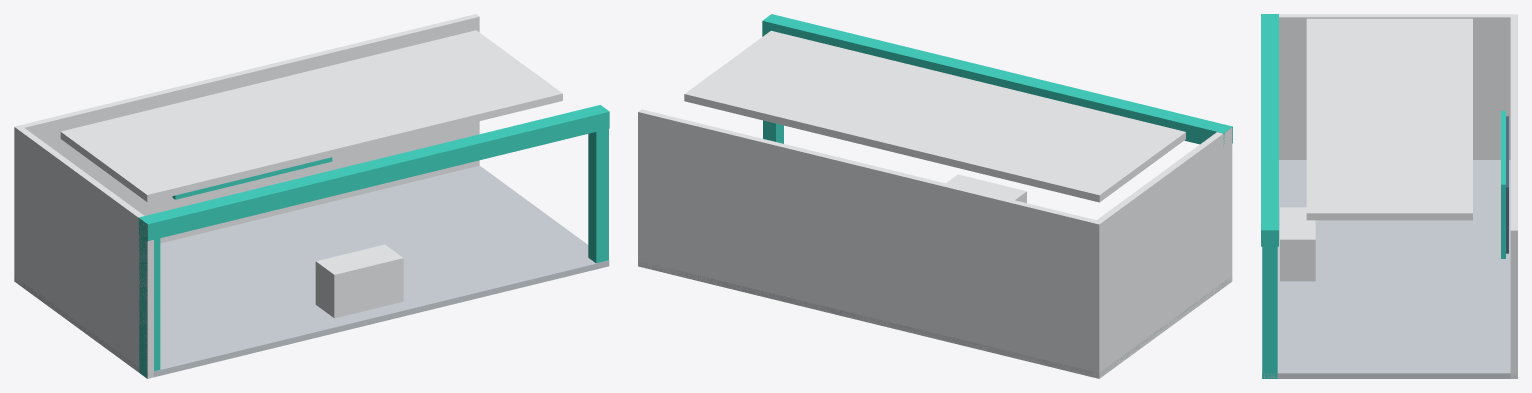
3 views of the same model, side by side, from view 1: azimuth 30°, elevation 25°; view 2: azimuth 150°, elevation 25°; view 3: azimuth 270°, elevation 25° (orthographic). The views are drawn at different scales.
Visible parts, largest first — view 1: Exhibition Booth Concept; view 2: Exhibition Booth Concept; view 3: Exhibition Booth Concept.
Part boxes in pixels (bbox=[...]): Exhibition Booth Concept: bbox=[14, 14, 609, 378]; Exhibition Booth Concept: bbox=[638, 14, 1232, 378]; Exhibition Booth Concept: bbox=[1261, 14, 1517, 378].
Size of the model in its own units: 10 by 3.34 by 5.02.
